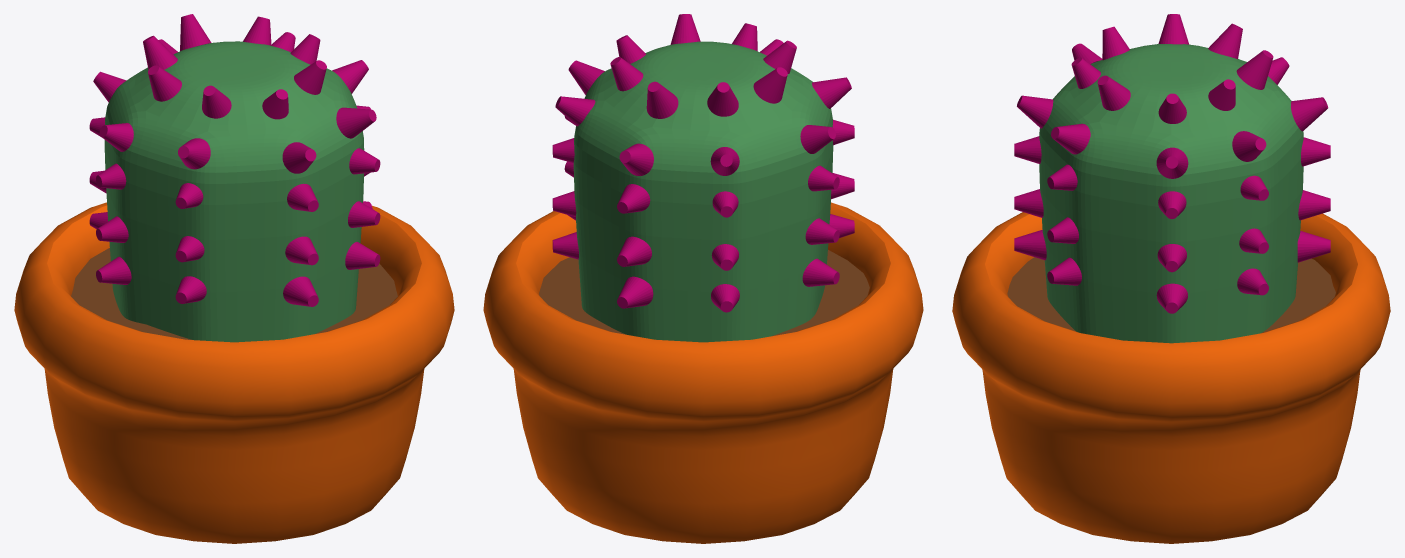
The picture shows the model from 3 angles, left to right: view 1: azimuth 30°, elevation 25°; view 2: azimuth 150°, elevation 25°; view 3: azimuth 270°, elevation 25°; orthographic projection.
Parts seen in each view (by area): view 1: pot, cactus, Cylinder, dirt; view 2: pot, cactus, Cylinder, dirt; view 3: pot, cactus, Cylinder, dirt.
Part boxes in pixels (left/top/right/bottom): pot: left=14, top=202, right=454, bottom=543; cactus: left=104, top=41, right=364, bottom=342; Cylinder: left=89, top=14, right=380, bottom=306; dirt: left=71, top=248, right=397, bottom=339; pot: left=483, top=202, right=923, bottom=543; cactus: left=573, top=41, right=833, bottom=342; Cylinder: left=552, top=14, right=854, bottom=312; dirt: left=539, top=250, right=869, bottom=336; pot: left=952, top=212, right=1390, bottom=543; cactus: left=1039, top=44, right=1303, bottom=343; Cylinder: left=1014, top=14, right=1330, bottom=313; dirt: left=1007, top=257, right=1335, bottom=333.
Size of the model in its own units: 2.49 by 2.74 by 2.49.
